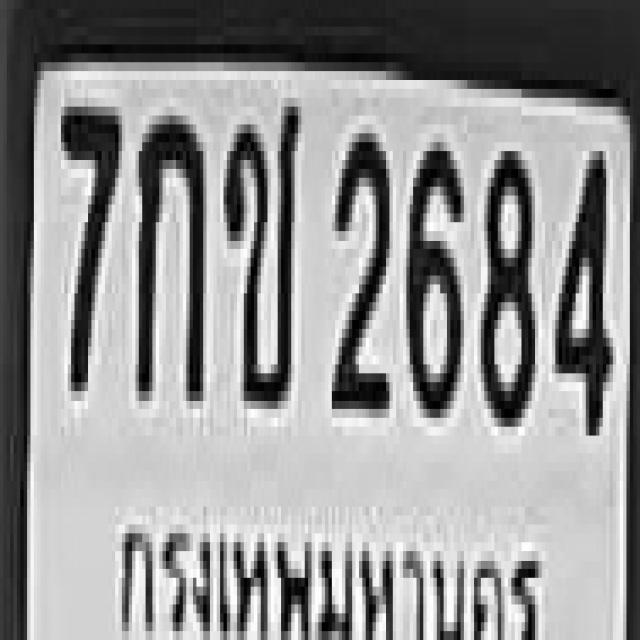10GorGai: (134, 107, 201, 391)
19ChorChang: (223, 93, 298, 404)
2: (328, 120, 386, 404)
4: (550, 142, 608, 427)
6: (403, 133, 460, 409)
7: (58, 98, 119, 382)
8: (478, 142, 532, 418)
Bangkok: (112, 489, 552, 640)
